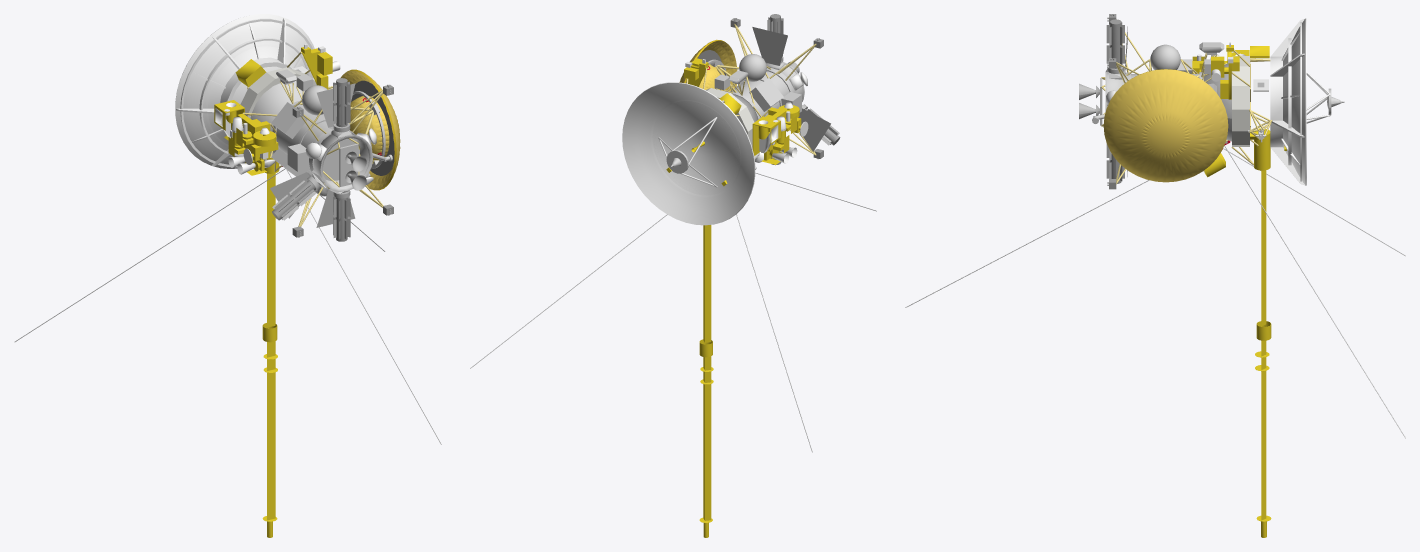
File: cassini_huygens.glb
The picture shows the model from 3 angles, left to right: view 1: azimuth 30°, elevation 25°; view 2: azimuth 150°, elevation 25°; view 3: azimuth 270°, elevation 25°; orthographic projection. The views are drawn at different scales.
Visible parts, largest first — view 1: mesh63_whitedish_0, mesh06_gold2_0, mesh07_gold2_0, cylinder14, mesh174_heatshieldfoil_0, mesh173_heatshieldfoil_0, cylinder10, mesh168_huygens_dark_0, mesh47_whitedish_0, cylinder09, mesh48_whitedish_0, mesh61_whitedish_0 (+7 smaller); view 2: mesh61_whitedish_0, mesh64_whitedish_0, mesh06_gold2_0, mesh07_gold2_0, mesh139_meddark_0, mesh134_meddark_0, mesh173_heatshieldfoil_0, cylinder10, mesh63_whitedish_0, mesh24_metallic_0, sphere01; view 3: mesh173_heatshieldfoil_0, mesh63_whitedish_0, mesh45_whitedish_0, mesh06_gold2_0, mesh07_gold2_0, sphere01, cylinder07.
Part boxes in pixels (box(x1,y1,x2,y2)): mesh63_whitedish_0: box(175, 14, 314, 168); mesh06_gold2_0: box(267, 341, 275, 520); mesh07_gold2_0: box(267, 173, 275, 327); cylinder14: box(250, 81, 304, 154); mesh174_heatshieldfoil_0: box(350, 95, 389, 160); mesh173_heatshieldfoil_0: box(340, 70, 400, 189); cylinder10: box(276, 104, 330, 171); mesh168_huygens_dark_0: box(351, 80, 394, 175); mesh47_whitedish_0: box(180, 18, 312, 167); cylinder09: box(309, 129, 359, 182); mesh48_whitedish_0: box(199, 37, 310, 156); mesh61_whitedish_0: box(205, 44, 300, 146); mesh61_whitedish_0: box(622, 83, 754, 225); mesh64_whitedish_0: box(652, 101, 740, 195); mesh06_gold2_0: box(703, 356, 711, 520); mesh07_gold2_0: box(703, 225, 711, 342); mesh139_meddark_0: box(752, 27, 787, 65); mesh134_meddark_0: box(798, 108, 830, 151); mesh173_heatshieldfoil_0: box(679, 40, 737, 91); cylinder10: box(730, 71, 789, 117); mesh63_whitedish_0: box(650, 99, 741, 197); mesh24_metallic_0: box(749, 78, 783, 111); sphere01: box(739, 54, 766, 81); mesh173_heatshieldfoil_0: box(1103, 69, 1228, 182); mesh63_whitedish_0: box(1283, 18, 1305, 185); mesh45_whitedish_0: box(1270, 56, 1282, 147); mesh06_gold2_0: box(1261, 340, 1266, 520); mesh07_gold2_0: box(1261, 170, 1266, 326); sphere01: box(1150, 44, 1180, 69); cylinder07: box(1254, 128, 1270, 170).
Size of what is drawn, in the model's own units: 257 by 338 by 298.
